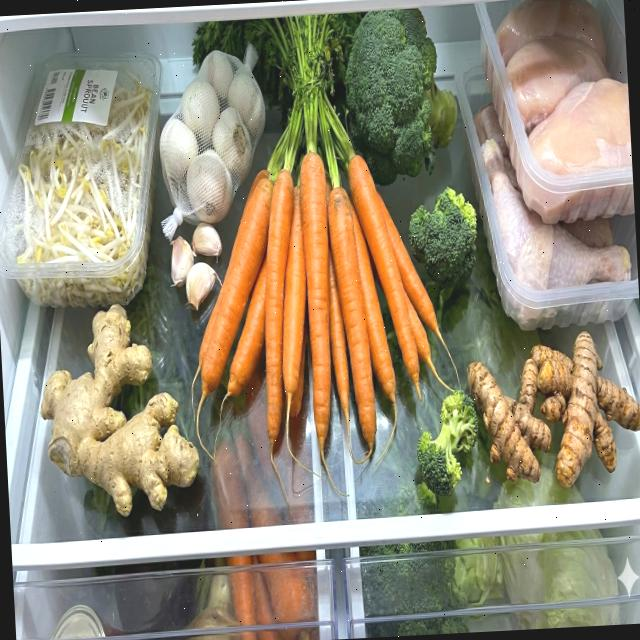bean_sprouts: (5, 63, 168, 309)
brocolli: (341, 6, 464, 189), (406, 187, 482, 291), (414, 389, 482, 498)
carrot: (180, 144, 468, 506)
chicken: (472, 94, 636, 332), (493, 0, 635, 227)
garlic: (154, 46, 278, 314)
ginger: (34, 298, 204, 522)
turmeric: (465, 327, 640, 494)
